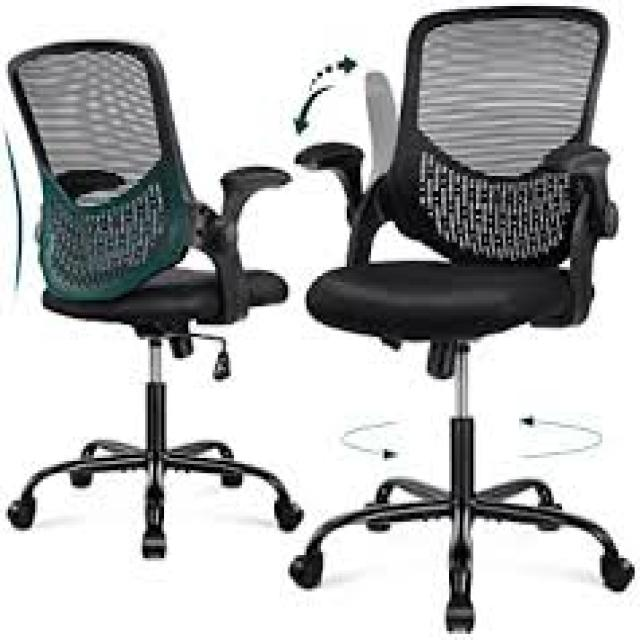chair: (279, 0, 640, 640), (0, 17, 317, 612)
